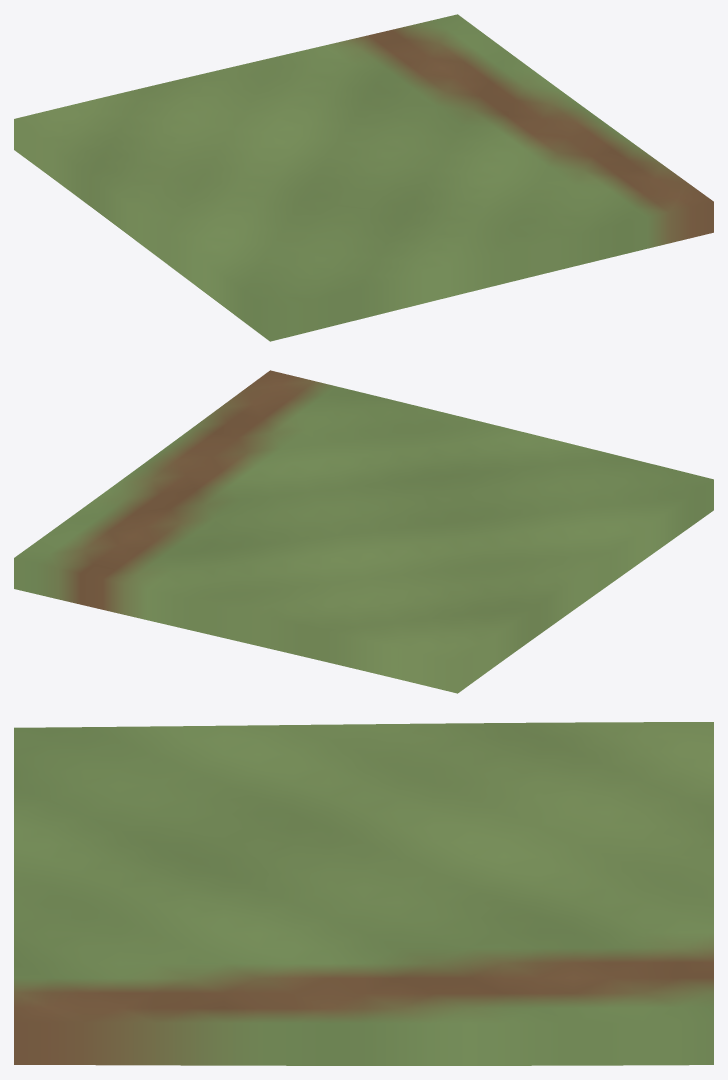
The picture shows the model from 3 angles, top to bottom: view 1: azimuth 30°, elevation 25°; view 2: azimuth 150°, elevation 25°; view 3: azimuth 270°, elevation 25°; orthographic projection. The views are drawn at different scales.
Parts seen in each view (by area): view 1: terrain; view 2: terrain; view 3: terrain.
Boxes of the visible parts, <box> form: terrain: <box>14,14,713,341</box>; terrain: <box>14,370,713,693</box>; terrain: <box>14,722,713,1065</box>.
Bounding box in the file's own units: 30 × 2.28 × 30.
